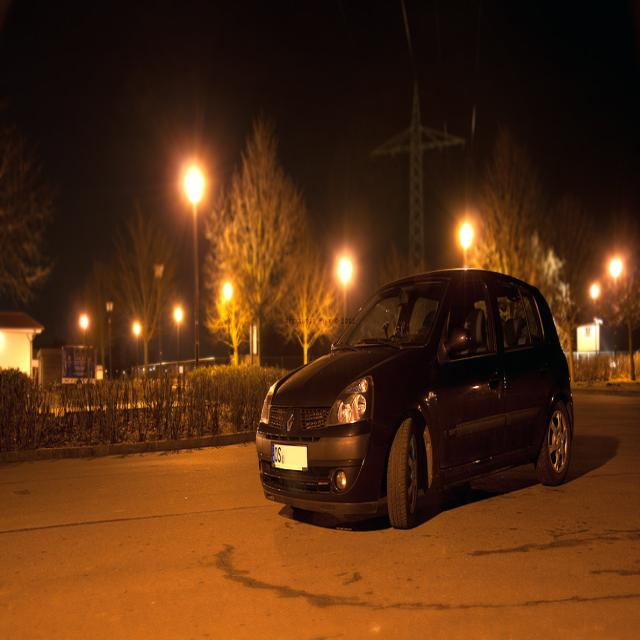Car: (231, 244, 599, 540)
